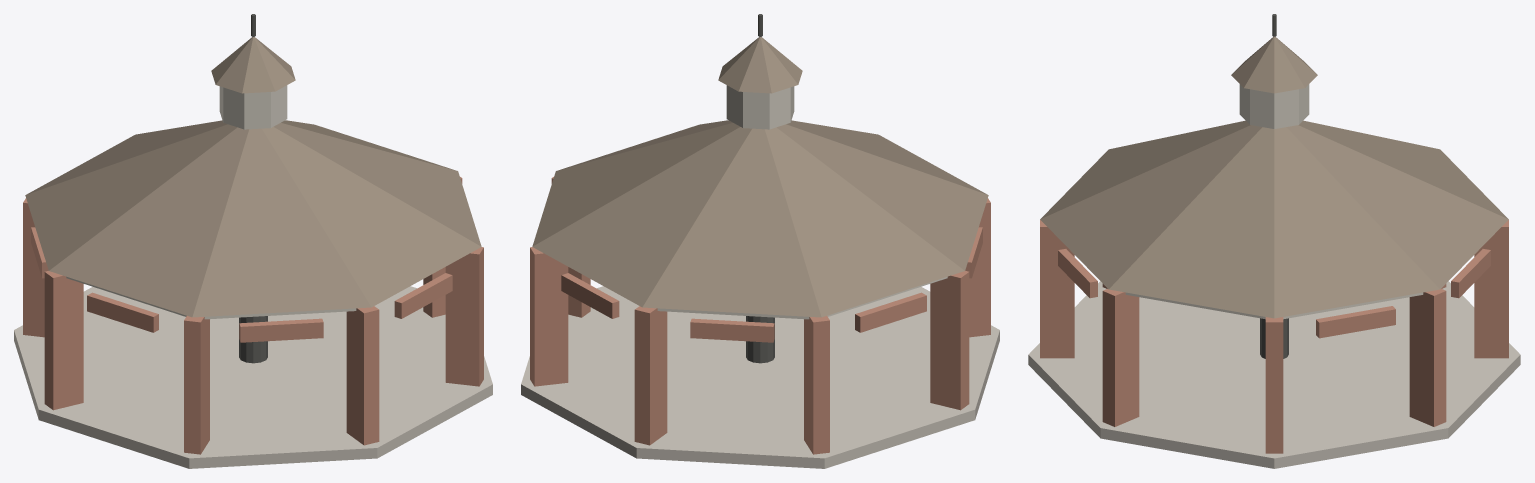
File: cp_carousel.glb
3 views of the same model, side by side, from view 1: azimuth 30°, elevation 25°; view 2: azimuth 150°, elevation 25°; view 3: azimuth 270°, elevation 25° (orthographic).
Parts seen in each view (by area): view 1: Carousel; view 2: Carousel; view 3: Carousel.
Boxes of the visible parts, left/top/right/bottom form: Carousel: left=14, top=14, right=492, bottom=468; Carousel: left=521, top=14, right=999, bottom=468; Carousel: left=1028, top=14, right=1520, bottom=468.
Size of the model in its own units: 17 by 13.35 by 17.
